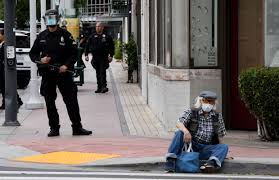mask: (201, 103, 214, 112), (45, 19, 57, 25)
